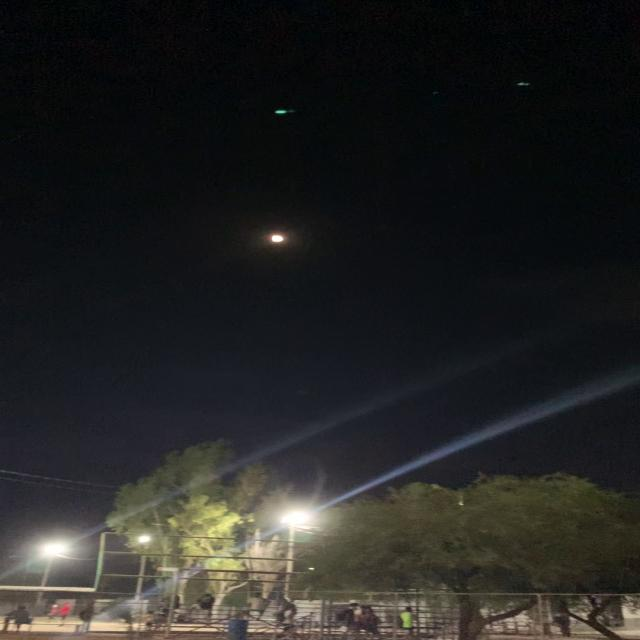moon: (260, 226, 295, 247)
